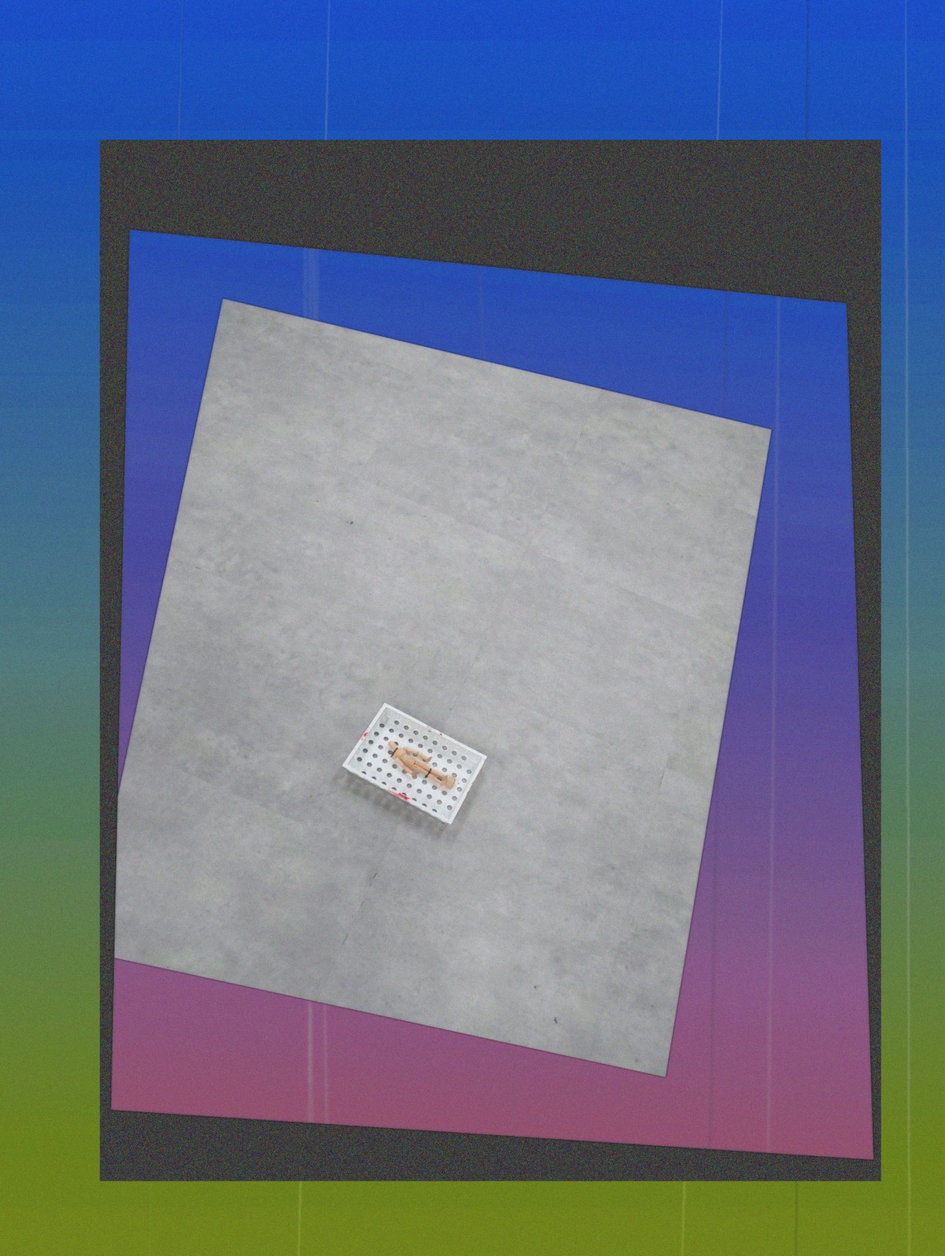basket: (337, 699, 492, 830)
mannequin: (385, 737, 458, 793)
